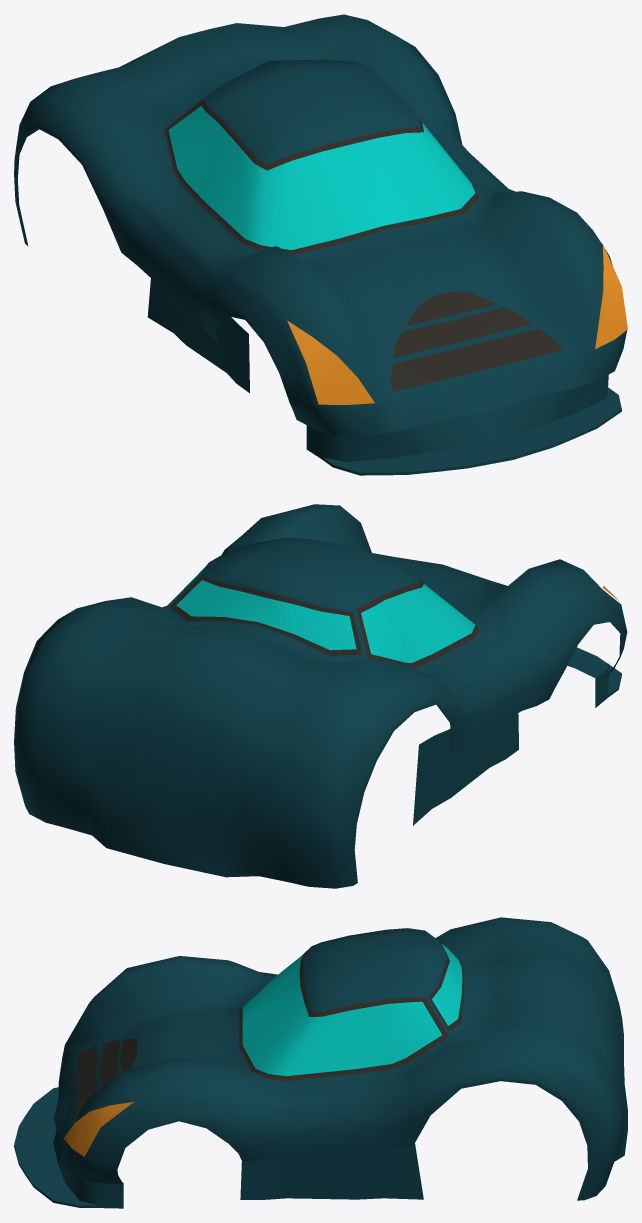
Rendered from LuxCasing01C04.gltf.
The picture shows the model from 3 angles, top to bottom: view 1: azimuth 30°, elevation 25°; view 2: azimuth 150°, elevation 25°; view 3: azimuth 270°, elevation 25°; orthographic projection. The views are drawn at different scales.
Visible parts, largest first — view 1: LuxCasing01C04; view 2: LuxCasing01C04; view 3: LuxCasing01C04.
Part boxes in pixels (x1,y1,x2,y2): LuxCasing01C04: (14,14,627,475); LuxCasing01C04: (14,504,627,888); LuxCasing01C04: (14,917,627,1208).
Size of the model in its own units: 0.2129 by 0.1281 by 0.3597.
Materials: 1 (1 with a texture image).
